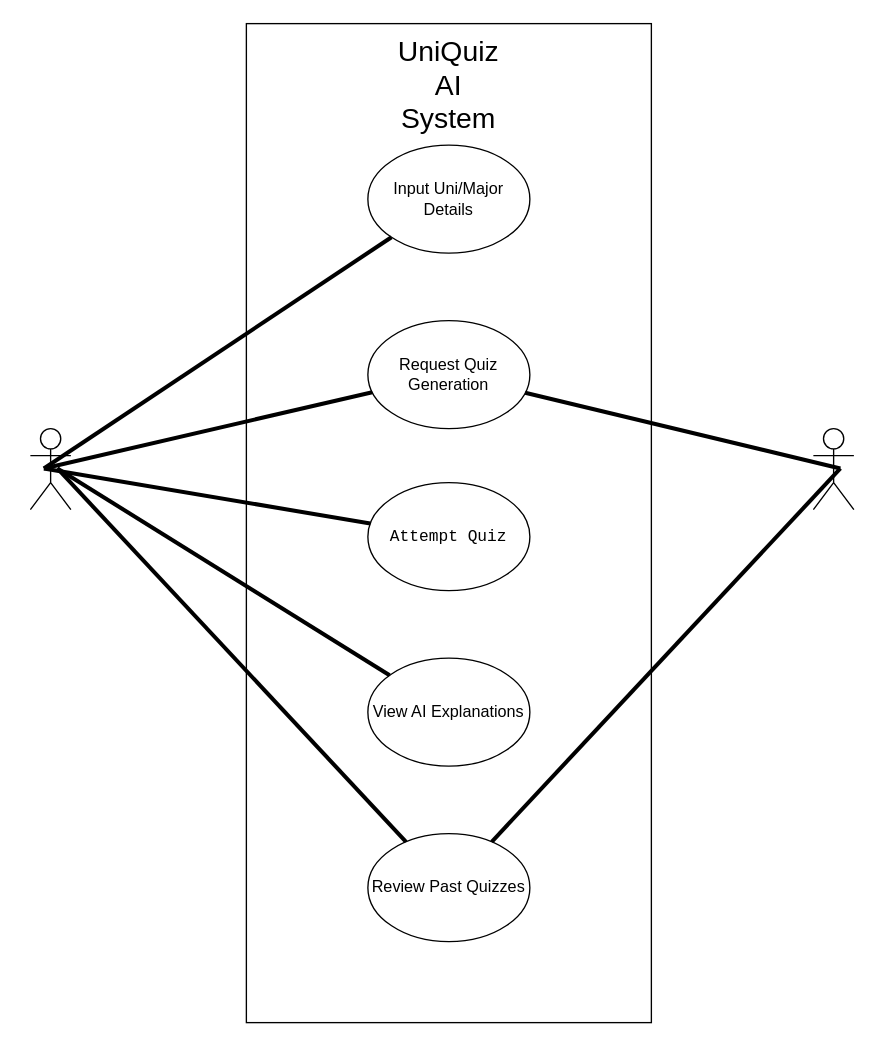
This 887x1046 diagram has some shape labels left out. The centre of each missing label's shape, as x and y in pixels:
"LLM API" belongs at (x=833, y=468).
"Student" belongs at (x=50, y=468).
